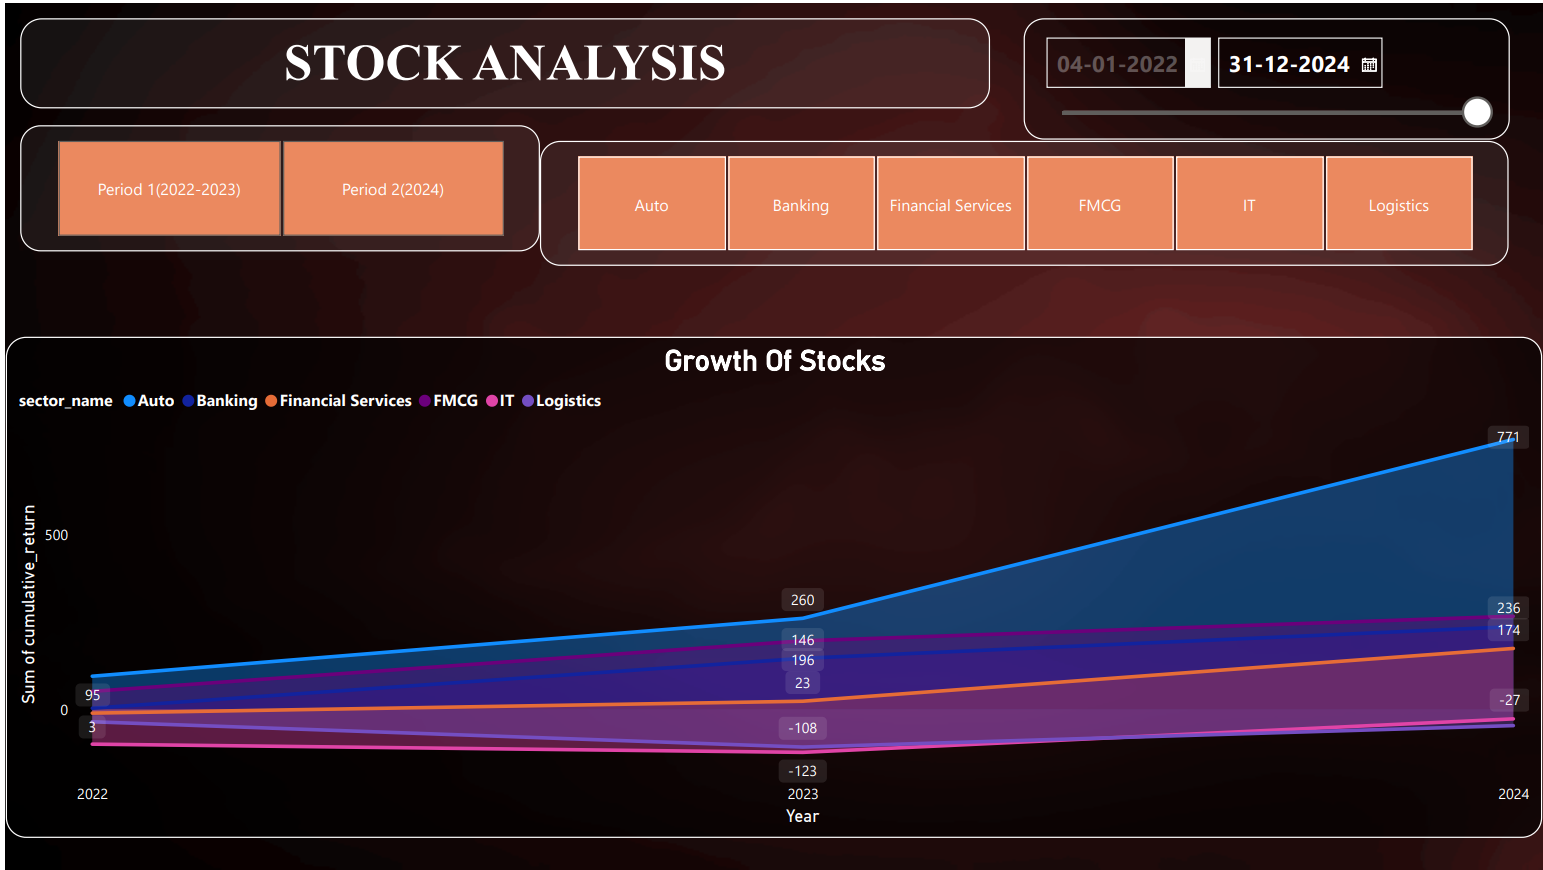

What the dashboard file says about the page in this screenshot:
{"tool":"powerbi","page":{"name":"Duplicate of Page 1","canvas":[1280,720],"ordinal":2},"visuals":[{"type":"lineChart","title":"Growth Of Stocks","fields":{"Category":["sector_return.date.Variation.Date Hierarchy.Year"],"Y":["Sum(sector_return.cumulative_return)"],"Series":["sectors.sector_name"]},"box":[0,277.1,1279.5,416.4],"z":0},{"type":"textbox","box":[11.7,11.7,808.3,75],"z":3000},{"type":"slicer","fields":{"Values":["sector_return.Periods"]},"box":[12.1,101.5,433.1,104.5],"z":6000},{"type":"slicer","fields":{"Values":["sectors.sector_name"]},"box":[445.2,113.6,807.1,104.5],"z":7000},{"type":"slicer","title":"Date","fields":{"Values":["sector_return.date"]},"box":[848.3,11.7,405,101.7],"z":8000}]}

Visuals, with their boxes in screenshot pixels (x1, y1, x2, y2), scaled from the page's 1280x720 canvas onto the 1543x870 screenshot:
"Growth Of Stocks" lineChart: crop(0, 335, 1542, 838)
textbox: crop(14, 14, 988, 105)
slicer - sector_return.Periods: crop(15, 123, 537, 249)
slicer - sectors.sector_name: crop(537, 137, 1510, 264)
"Date" slicer: crop(1023, 14, 1511, 137)
